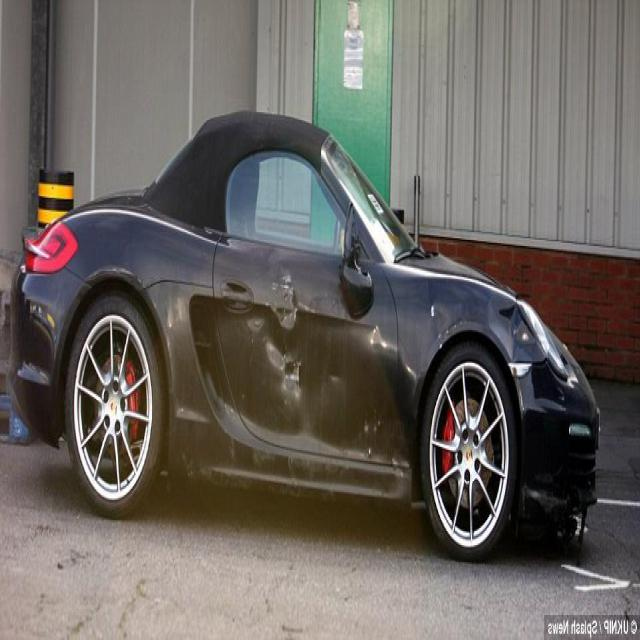dent: (250, 254, 317, 450)
